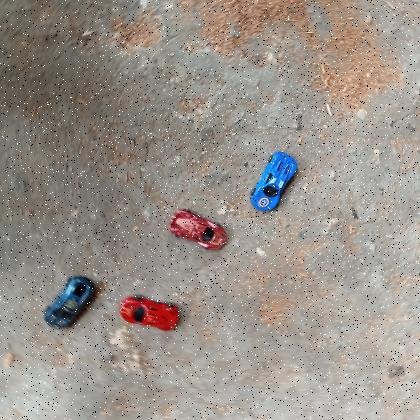Car: (248, 152, 300, 214), (42, 276, 96, 331), (170, 209, 228, 253), (118, 296, 180, 332)
